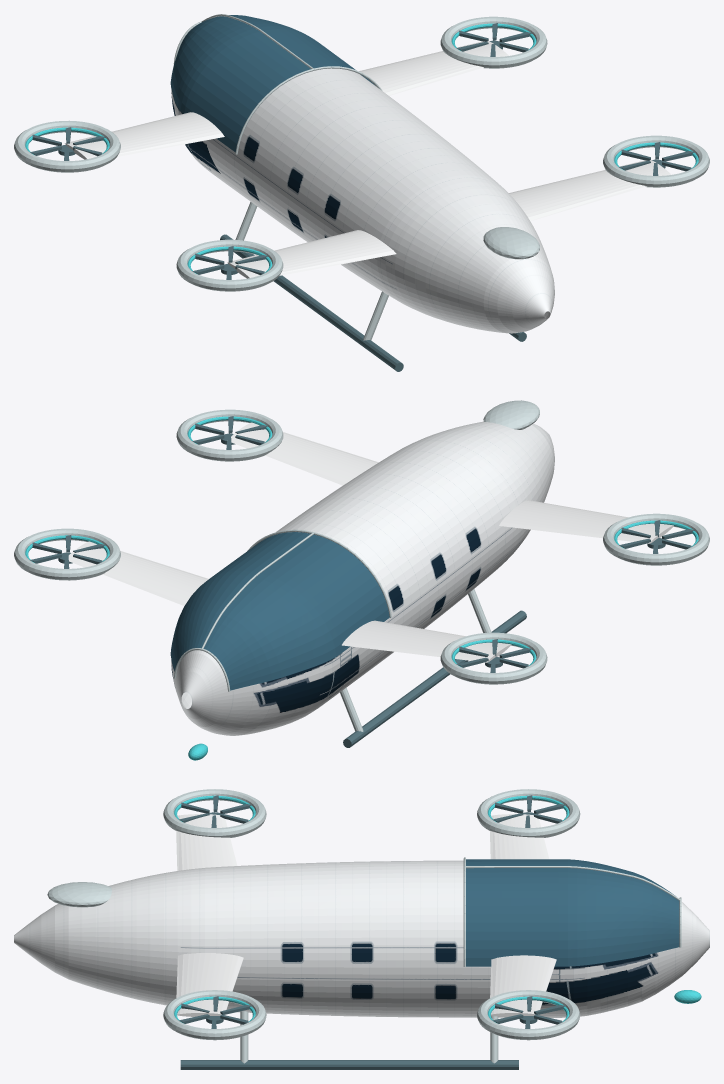
Rendered from 06_electric_evtol.glb.
The picture shows the model from 3 angles, top to bottom: view 1: azimuth 30°, elevation 25°; view 2: azimuth 150°, elevation 25°; view 3: azimuth 270°, elevation 25°; orthographic projection. The views are drawn at different scales.
Visible parts, largest first — view 1: textured_airframe, body-details, metal-details, glass-details, dark-details, accent-details, fan_R_F, fan_R_B, fan_L_B, fan_L_F; view 2: textured_airframe, glass-details, body-details, metal-details, dark-details, accent-details, fan_L_F, fan_L_B, fan_R_B, fan_R_F; view 3: textured_airframe, glass-details, metal-details, body-details, dark-details, accent-details, fan_L_B, fan_R_B, fan_L_F, fan_R_F.
Part boxes in pixels (x1,y1,x2,y2): textured_airframe: [171, 68, 554, 333]; body-details: [65, 41, 671, 278]; metal-details: [14, 14, 709, 340]; glass-details: [170, 15, 375, 152]; dark-details: [58, 40, 665, 371]; accent-details: [25, 23, 698, 274]; fan_R_F: [456, 23, 532, 56]; fan_R_B: [619, 142, 694, 175]; fan_L_B: [192, 246, 268, 279]; fan_L_F: [30, 127, 105, 160]; textured_airframe: [171, 421, 554, 735]; glass-details: [170, 532, 389, 690]; body-details: [68, 422, 673, 662]; metal-details: [14, 400, 709, 731]; dark-details: [58, 433, 665, 747]; accent-details: [25, 416, 698, 760]; fan_L_F: [456, 639, 532, 672]; fan_L_B: [619, 520, 694, 553]; fan_R_B: [192, 416, 268, 449]; fan_R_F: [30, 535, 105, 568]; textured_airframe: [14, 860, 709, 1017]; glass-details: [466, 859, 679, 966]; metal-details: [47, 789, 681, 1063]; body-details: [176, 814, 556, 1016]; dark-details: [180, 812, 537, 1069]; accent-details: [174, 795, 701, 1023]; fan_L_B: [179, 795, 251, 827]; fan_R_B: [179, 996, 251, 1028]; fan_L_F: [492, 795, 565, 827]; fan_R_F: [492, 996, 565, 1028].
Size of the model in its own units: 11.81 by 3.93 by 14.2.
Materials: 7 (1 with a texture image).
